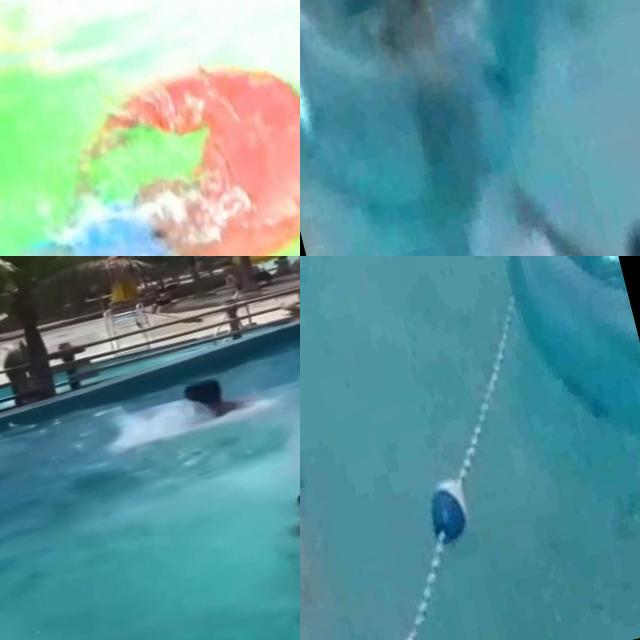drowning: (300, 342, 364, 640), (507, 118, 640, 256), (244, 378, 300, 611)
swimming: (0, 0, 300, 256), (322, 0, 488, 126), (134, 350, 300, 439)
